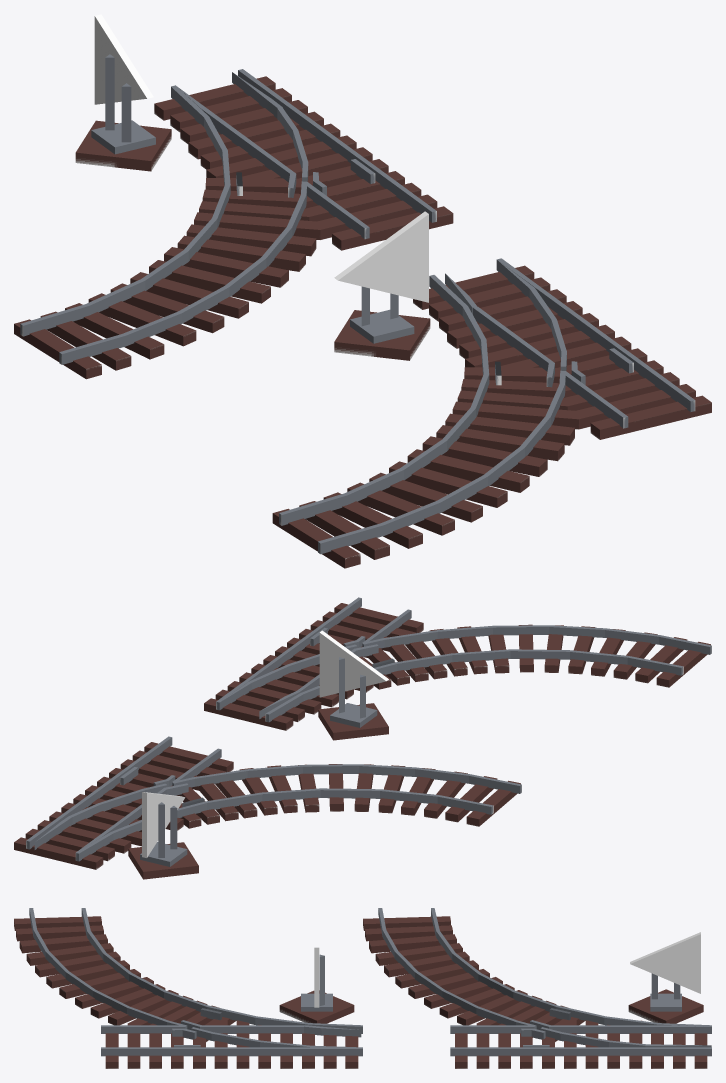
File: right-switch-4-track.blend.glb
3 renders of one model, top to bottom at view 1: azimuth 30°, elevation 25°; view 2: azimuth 150°, elevation 25°; view 3: azimuth 270°, elevation 25°, orthographic. The views are drawn at different scales.
Visible parts, largest first — view 1: right switch curve, right switch strait; view 2: right switch strait, right switch curve; view 3: right switch strait, right switch curve.
Boxes of the visible parts, box(x1,y1,x2,y2) form: right switch curve: box(272, 211, 711, 568); right switch strait: box(14, 14, 453, 379); right switch strait: box(14, 736, 521, 879); right switch curve: box(204, 597, 711, 740); right switch strait: box(363, 908, 711, 1068); right switch curve: box(14, 908, 362, 1068).
Size of the model in its own units: 8 by 2 by 16.
Materials: 1 (1 with a texture image).
